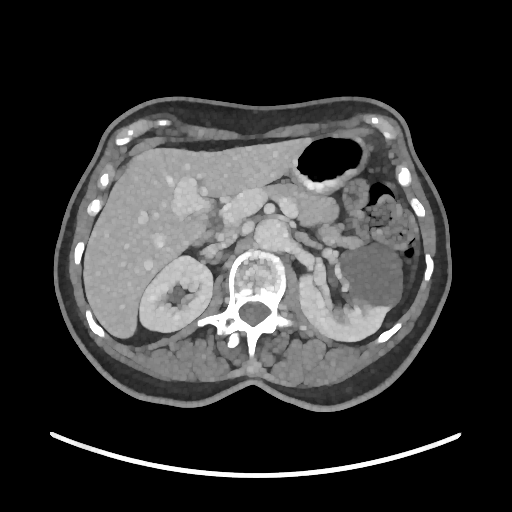Lesion: (335, 244, 404, 311)
